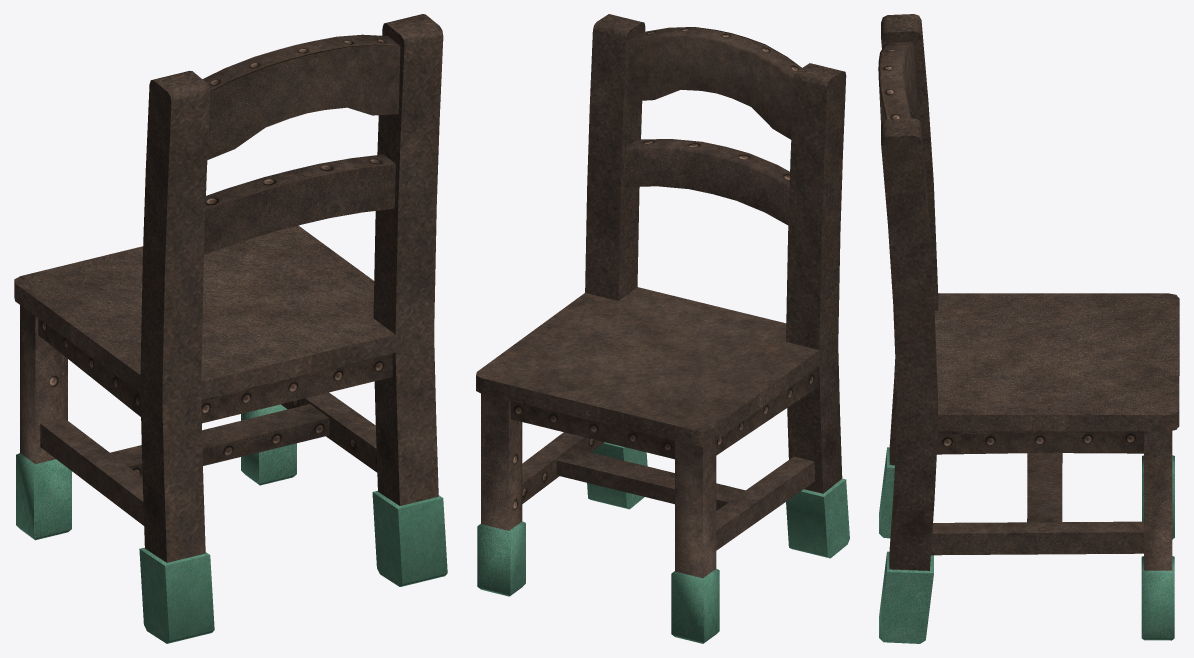
Rendered from Work_Table_Chair_Metal.fbx.
3 renders of one model, left to right at view 1: azimuth 30°, elevation 25°; view 2: azimuth 150°, elevation 25°; view 3: azimuth 270°, elevation 25°, orthographic. The views are drawn at different scales.
Visible parts, largest first — view 1: Work_Table_Chair_Metal; view 2: Work_Table_Chair_Metal; view 3: Work_Table_Chair_Metal.
Part boxes in pixels (x1,y1,x2,y2): Work_Table_Chair_Metal: (14, 14, 447, 643); Work_Table_Chair_Metal: (476, 14, 849, 643); Work_Table_Chair_Metal: (878, 14, 1179, 643).
Size of the model in its own units: 36.81 by 70.96 by 37.6.
